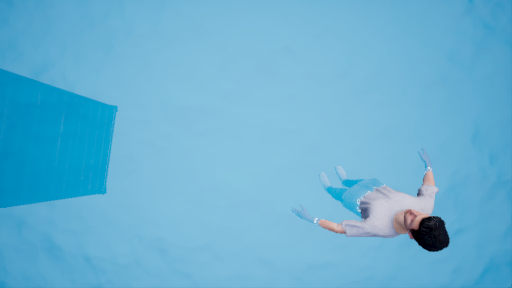person: (298, 152, 471, 255)
